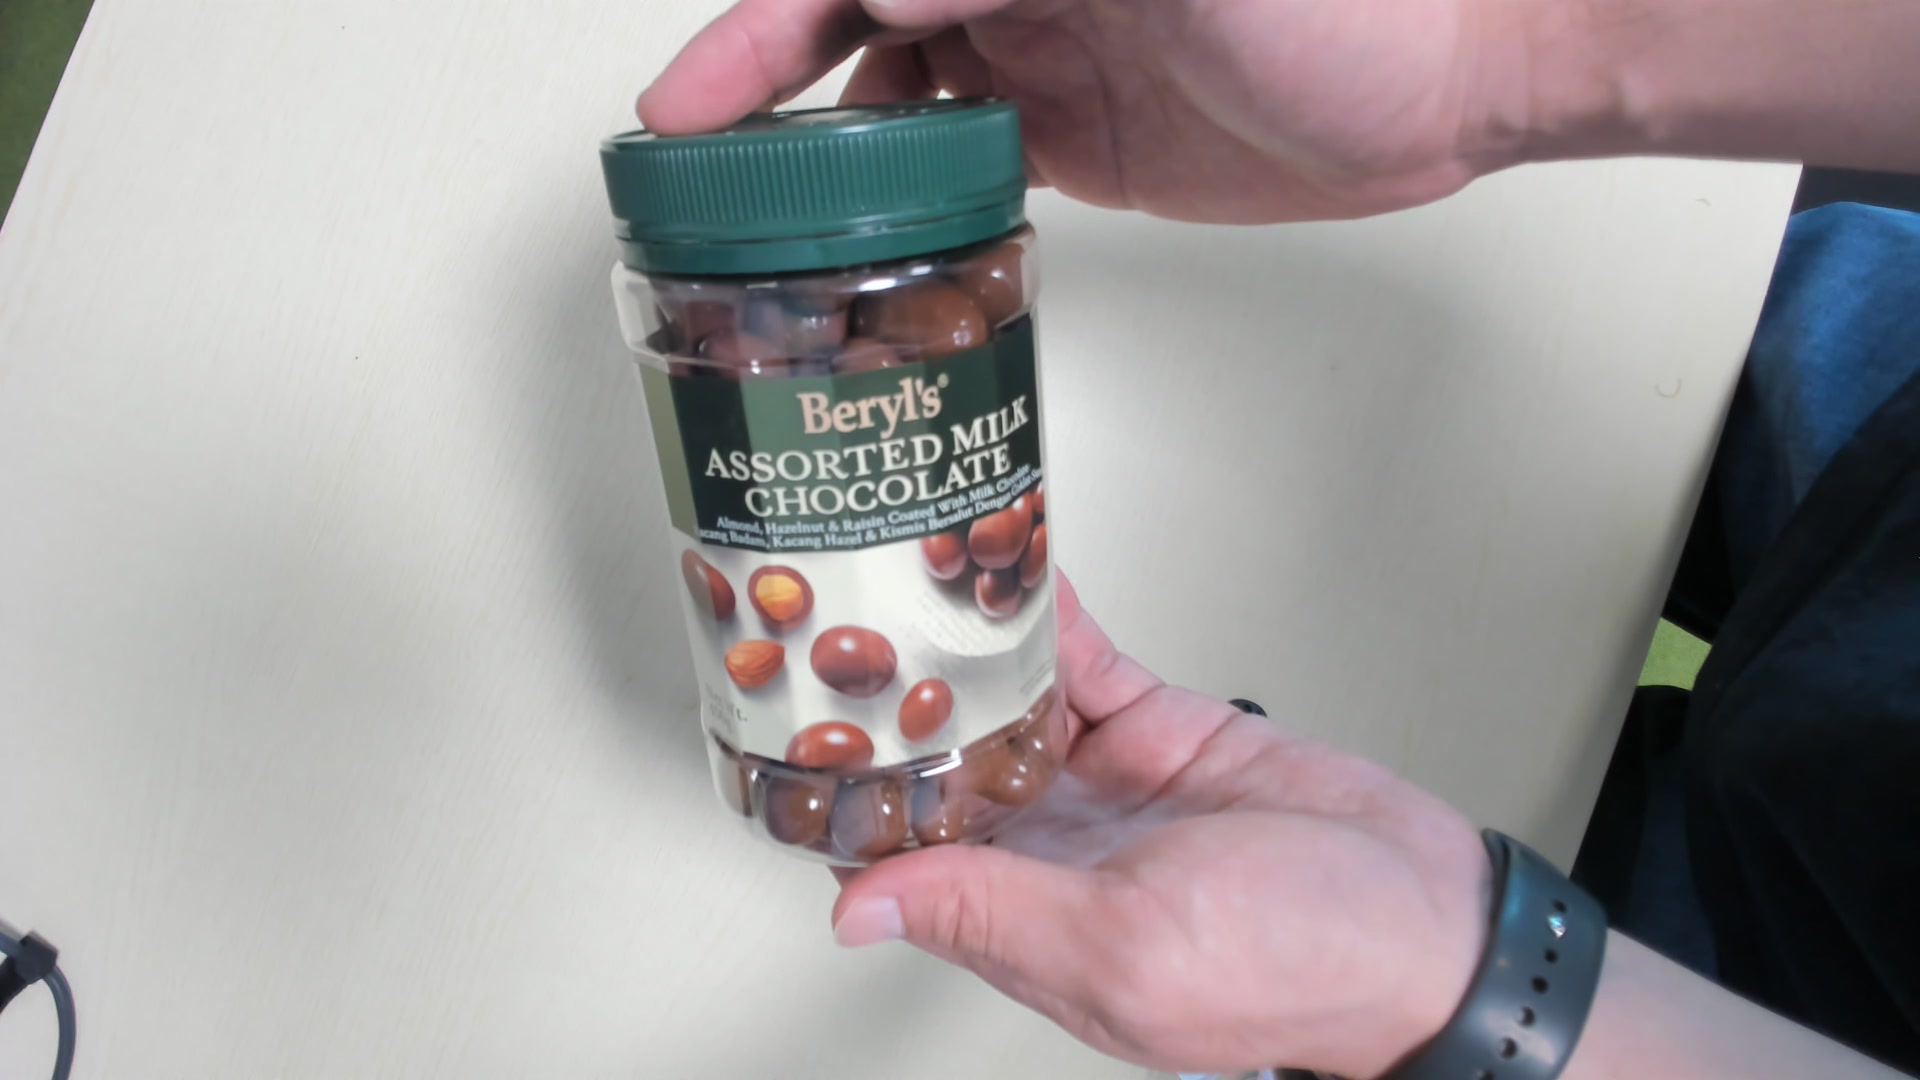SweetsChocolatesOthers_400-499g_Halal_Nonhealthy: (603, 113, 1069, 872)
